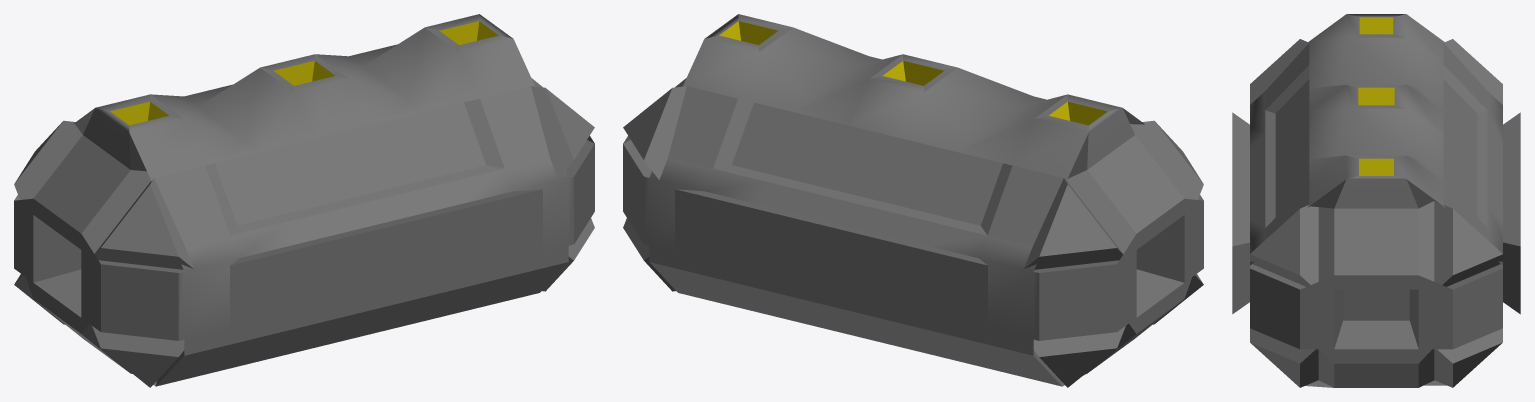
File: moteur_vincent.fbx
3 renders of one model, left to right at view 1: azimuth 30°, elevation 25°; view 2: azimuth 150°, elevation 25°; view 3: azimuth 270°, elevation 25°, orthographic. The views are drawn at different scales.
Visible parts, largest first — view 1: moteur1; view 2: moteur1; view 3: moteur1.
Boxes of the visible parts, x1,y1,x2,y2 form: moteur1: (14,14,594,387); moteur1: (623,14,1203,387); moteur1: (1232,14,1520,387).
Size of the model in its own units: 4.46 by 2.02 by 2.56.
